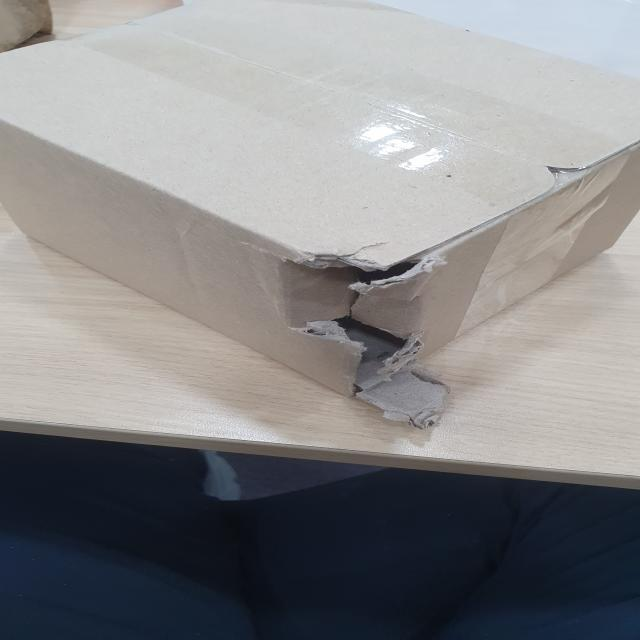hole: (309, 257, 437, 365)
